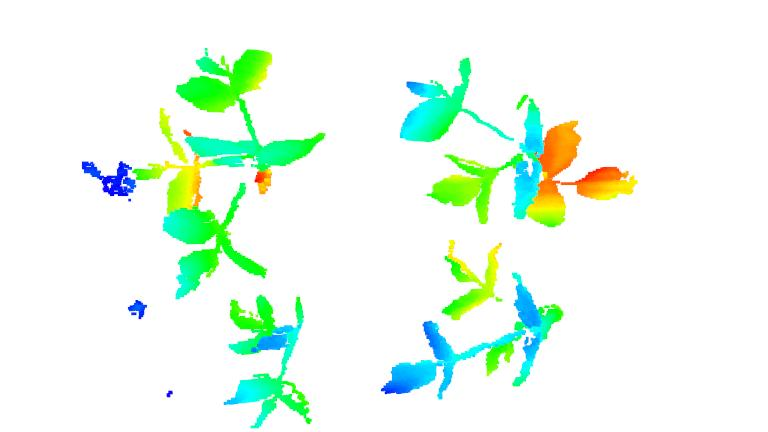mungbean: (134, 43, 327, 297), (397, 57, 643, 229), (376, 236, 564, 401), (217, 288, 312, 432)
